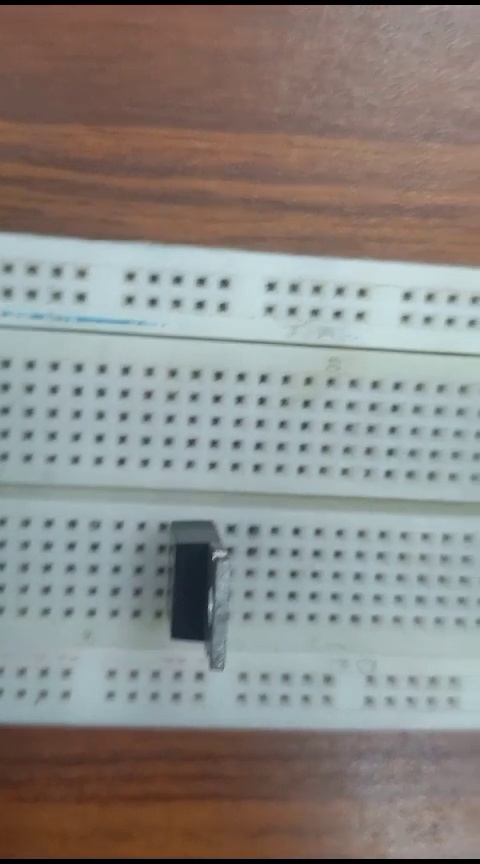voltage regulator: (154, 513, 246, 697)
